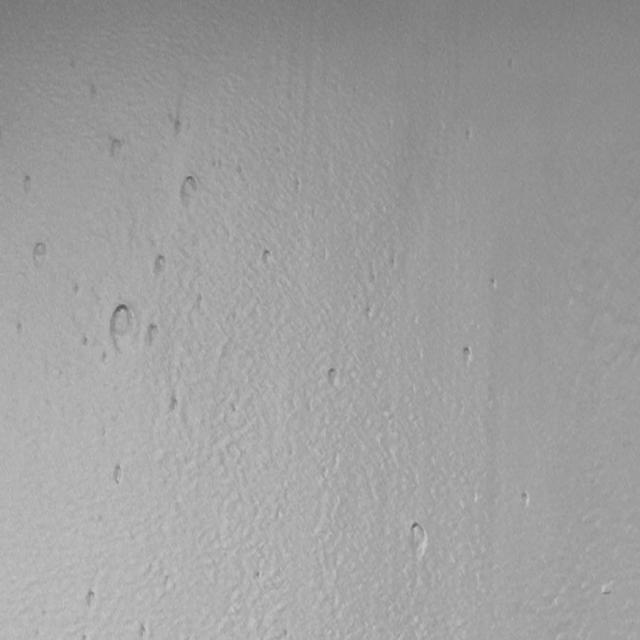pin holes: (106, 300, 140, 355), (405, 521, 431, 562), (29, 241, 52, 270), (180, 175, 202, 205), (150, 252, 170, 279), (108, 135, 129, 159), (323, 365, 343, 388), (459, 344, 477, 369), (110, 461, 128, 486), (83, 587, 100, 612), (147, 321, 163, 346), (20, 175, 37, 198), (168, 393, 184, 417), (249, 567, 266, 588), (601, 578, 615, 603), (260, 248, 275, 270), (518, 491, 534, 511), (15, 320, 28, 340), (100, 350, 112, 368), (172, 118, 184, 136), (235, 159, 247, 177), (137, 624, 150, 640), (487, 276, 500, 292), (81, 333, 93, 350), (70, 282, 82, 299), (464, 128, 476, 144), (253, 571, 266, 585), (364, 306, 377, 320), (279, 626, 291, 639)
